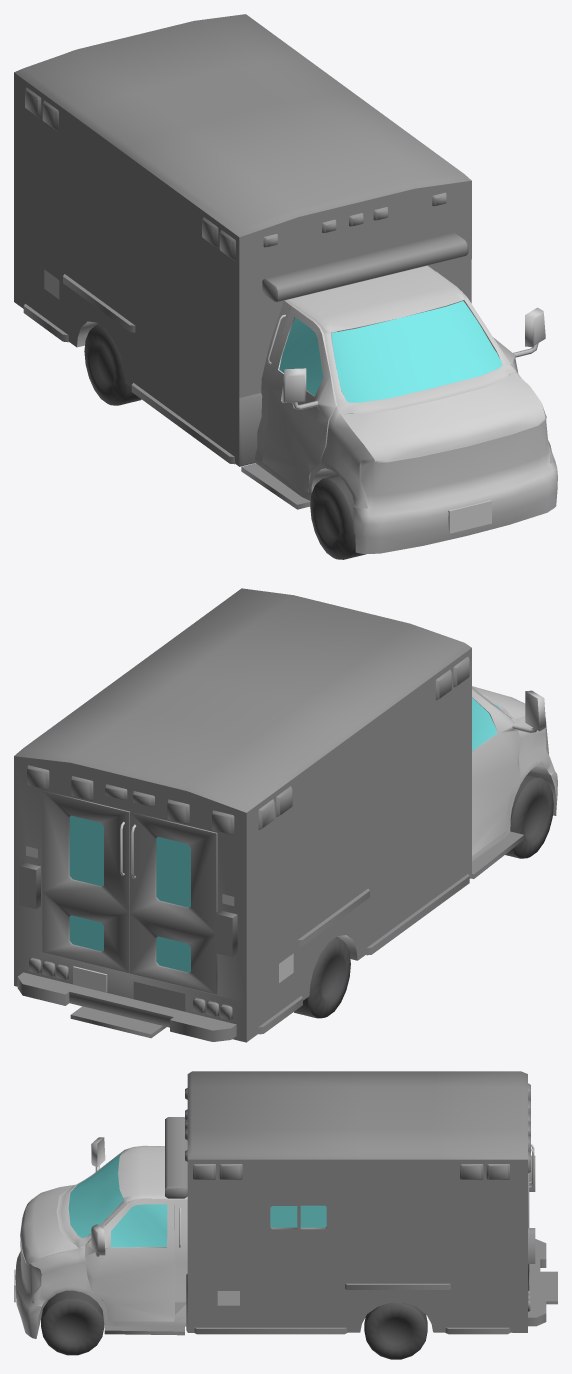
Rendered from ambulance.dae.
3 renders of one model, top to bottom at view 1: azimuth 30°, elevation 25°; view 2: azimuth 150°, elevation 25°; view 3: azimuth 270°, elevation 25°, orthographic. The views are drawn at different scales.
Visible parts, largest first — view 1: Ambulance_Body, Ambulance_Cabin, Ambulance_Glass, Ambulance_Body_001, Ambulance_Decals1; view 2: Ambulance_Body, Ambulance_Cabin, Ambulance_Glass, Ambulance_Body_001, Ambulance_Decals1; view 3: Ambulance_Body, Ambulance_Cabin, Ambulance_Body_001, Ambulance_Glass, Ambulance_Decals1.
Part boxes in pixels (left/top/right/bottom): Ambulance_Body: left=14, top=14, right=471, bottom=509; Ambulance_Cabin: left=77, top=265, right=557, bottom=553; Ambulance_Glass: left=279, top=301, right=502, bottom=402; Ambulance_Body_001: left=84, top=324, right=366, bottom=559; Ambulance_Decals1: left=44, top=269, right=491, bottom=533; Ambulance_Body: left=14, top=588, right=524, bottom=1042; Ambulance_Cabin: left=120, top=686, right=557, bottom=960; Ambulance_Glass: left=69, top=698, right=500, bottom=972; Ambulance_Body_001: left=294, top=774, right=553, bottom=1018; Ambulance_Decals1: left=26, top=846, right=293, bottom=992; Ambulance_Body: left=104, top=1071, right=557, bottom=1335; Ambulance_Cabin: left=15, top=1137, right=534, bottom=1338; Ambulance_Body_001: left=41, top=1290, right=427, bottom=1359; Ambulance_Glass: left=68, top=1153, right=326, bottom=1247; Ambulance_Decals1: left=14, top=1269, right=529, bottom=1305.
Bounding box in the file's own units: 0.0585 × 0.1392 × 0.0595.
